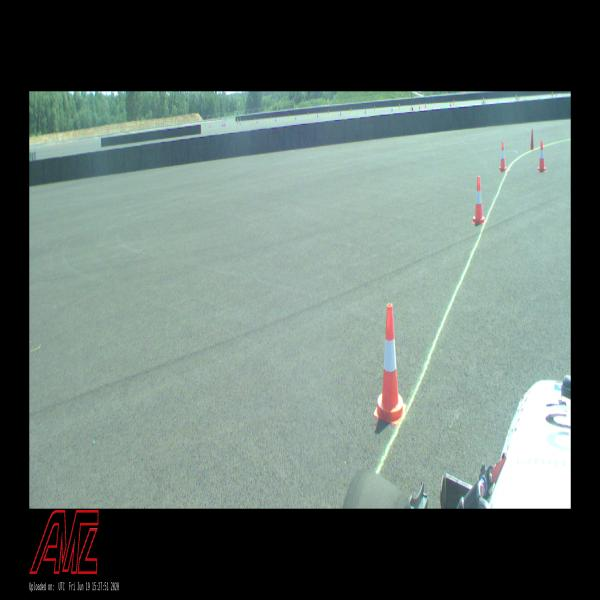orange_cone: (374, 304, 406, 424), (473, 177, 484, 223), (538, 141, 546, 171), (500, 142, 507, 171)
unknown_cone: (531, 129, 534, 149)
